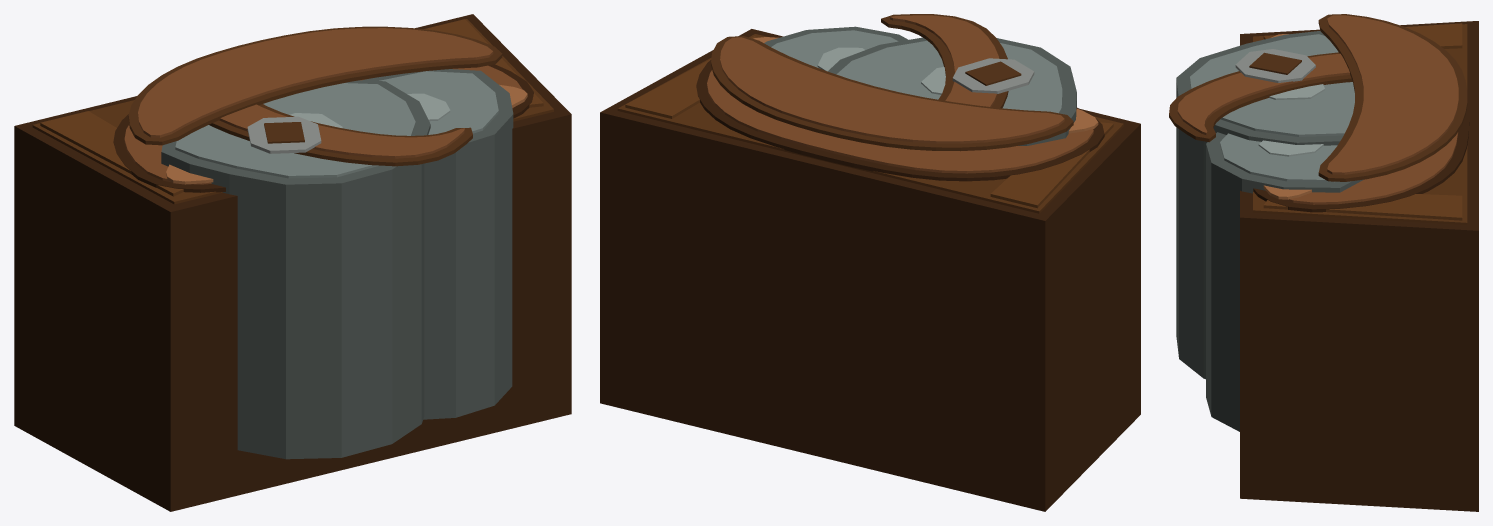
File: bag_bolsa_pedra.fbx
3 renders of one model, left to right at view 1: azimuth 30°, elevation 25°; view 2: azimuth 150°, elevation 25°; view 3: azimuth 270°, elevation 25°, orthographic. The views are drawn at different scales.
Parts seen in each view (by area): view 1: bag_bolsa_pedra_mochila; view 2: bag_bolsa_pedra_mochila; view 3: bag_bolsa_pedra_mochila.
Part boxes in pixels (x1,y1,x2,y2): bag_bolsa_pedra_mochila: [14, 14, 571, 511]; bag_bolsa_pedra_mochila: [600, 14, 1140, 511]; bag_bolsa_pedra_mochila: [1169, 14, 1478, 511].
Bounding box in the file's own units: 2.85 × 1.98 × 1.78.
Materials: 1 (1 with a texture image).
